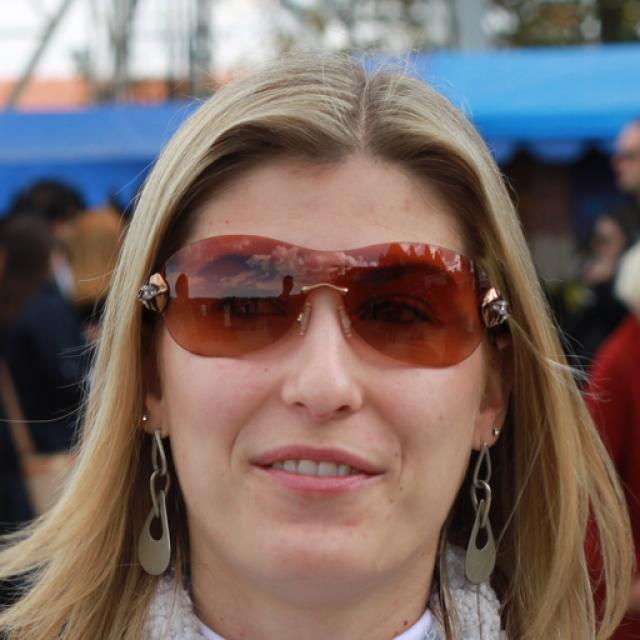disgust: (158, 156, 484, 586)
